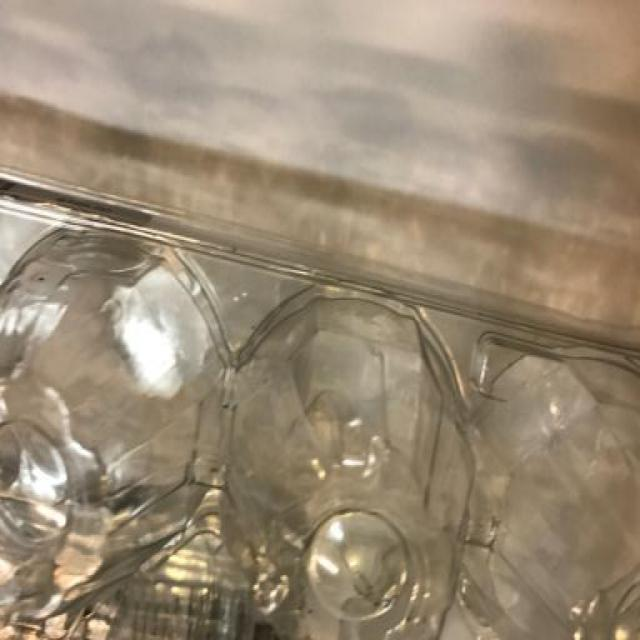others: (3, 11, 640, 640)
